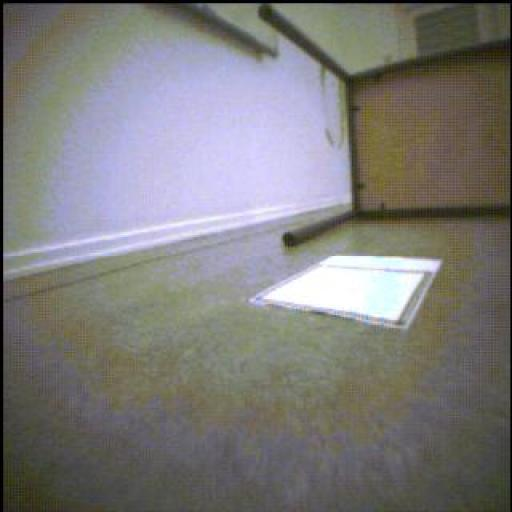Pad: (252, 257, 443, 329)
